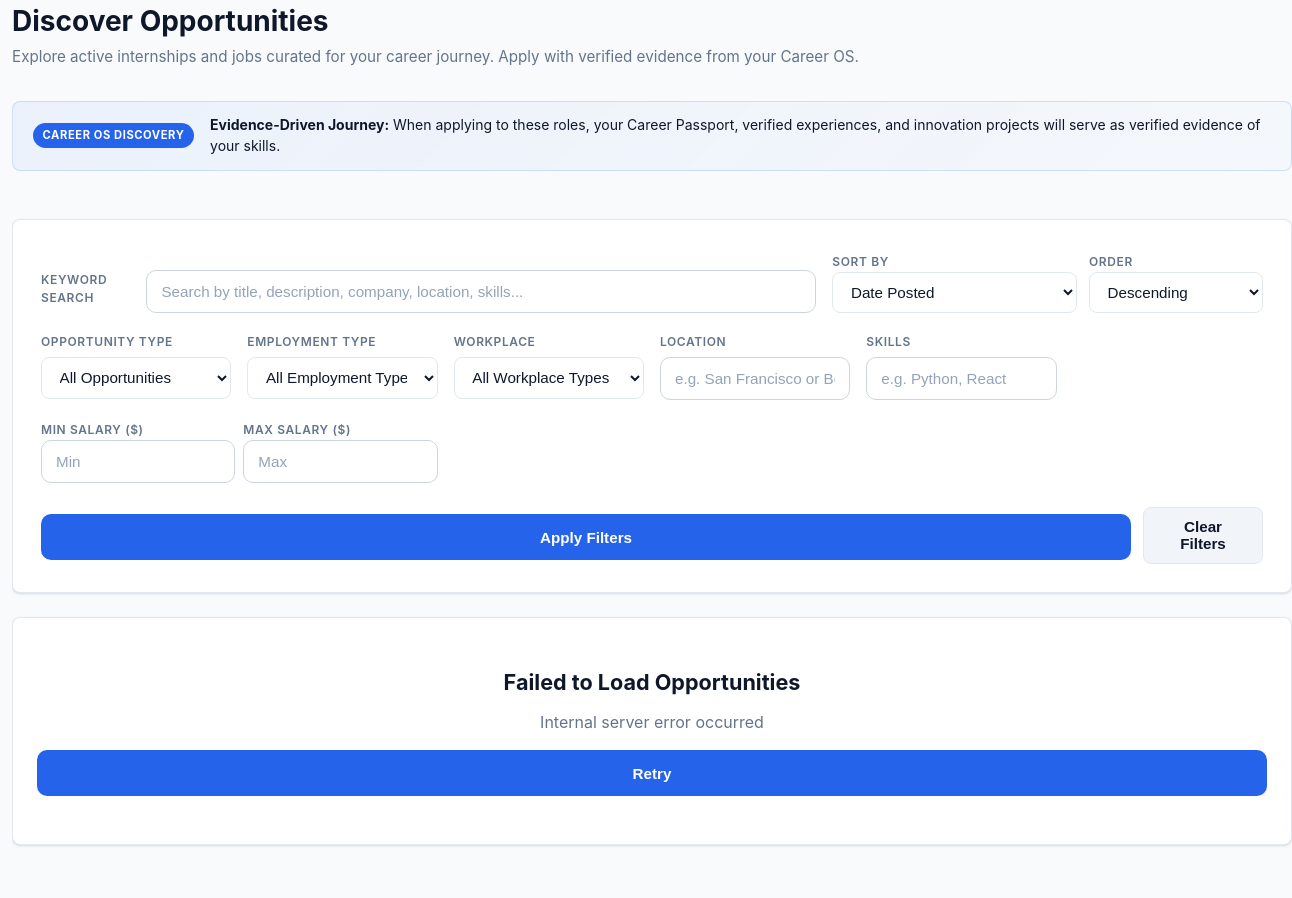
JobDiscoveryPage › displays error state with Retry button when fetch fails
Expected: the heading "Failed to Load Opportunities" is shown, 504,666 -> 800,698
Expected: the text "Internal server error occurred" is shown, 540,710 -> 764,734
Click the button "Retry": (652,773) 37,750 -> 1267,796
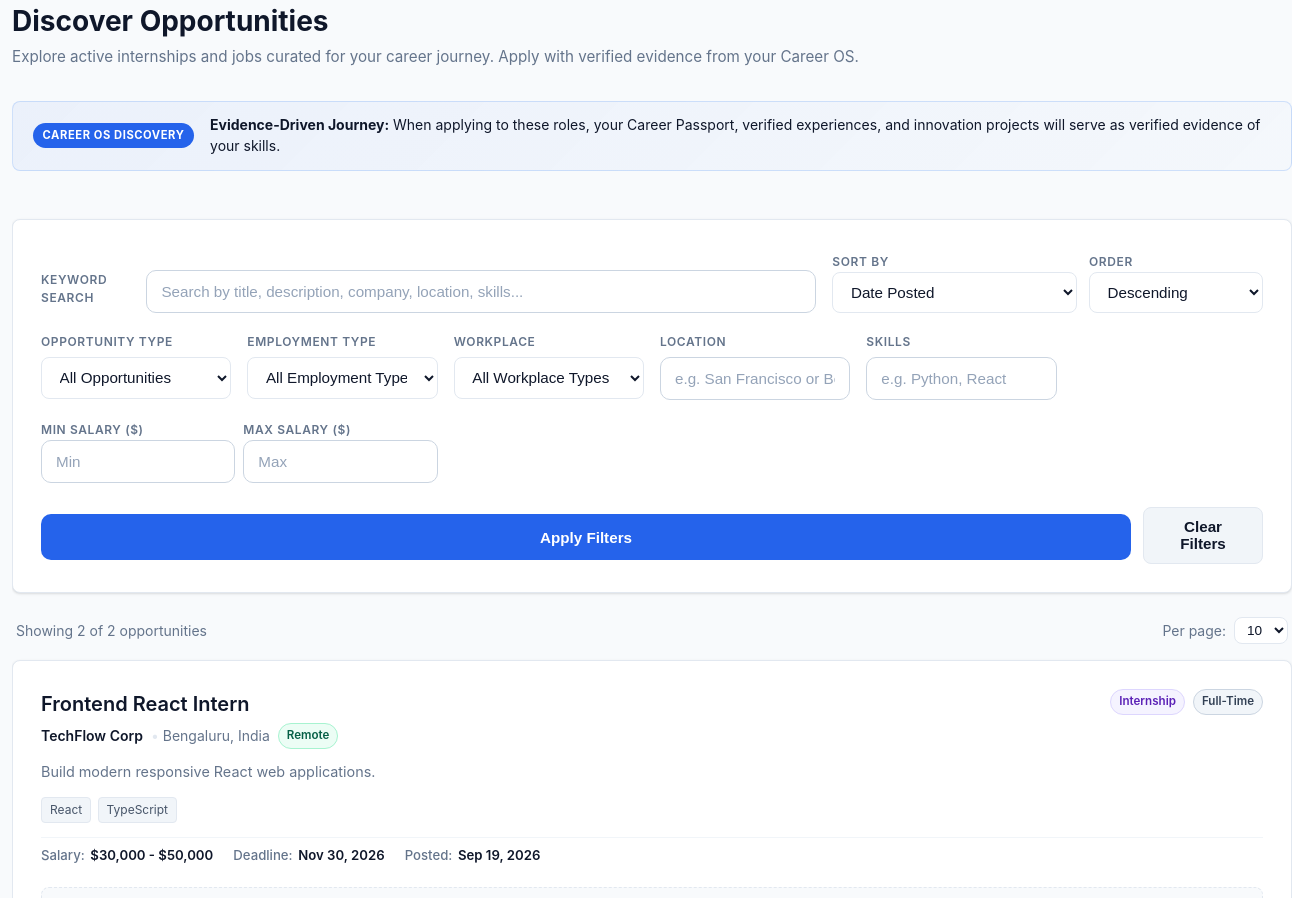
Expected: the link "Frontend React Intern" is shown, 41,692 -> 250,716
